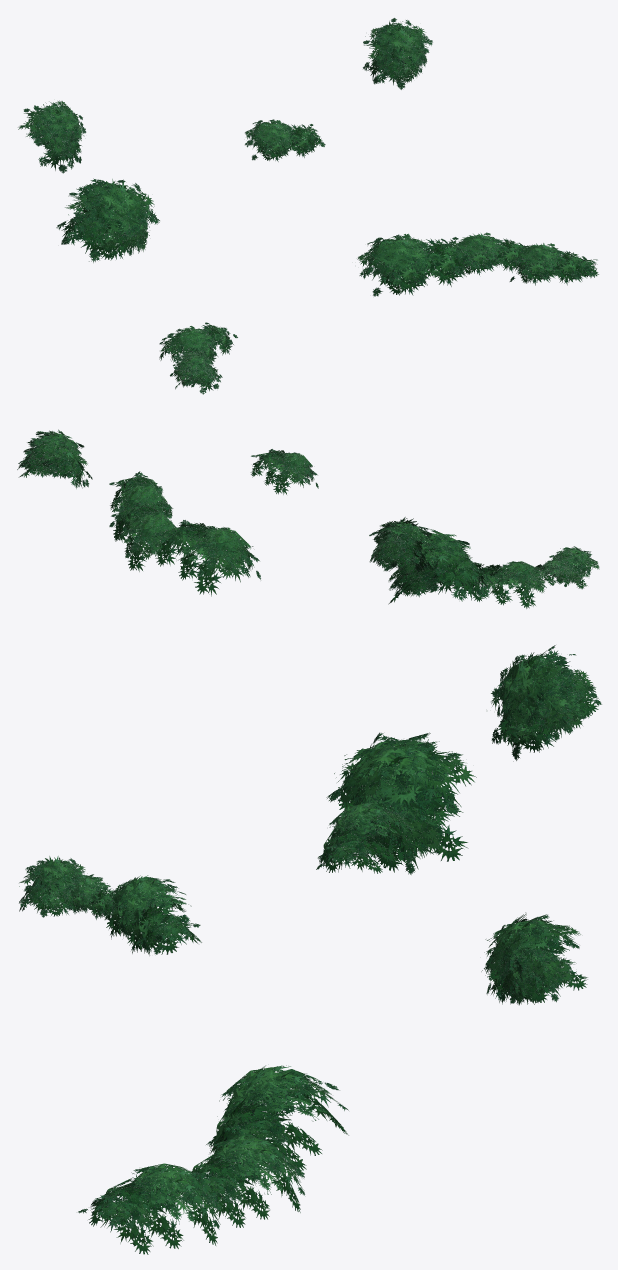
The model's file is Area_01_8.fbx.
The picture shows the model from 3 angles, top to bottom: view 1: azimuth 30°, elevation 25°; view 2: azimuth 150°, elevation 25°; view 3: azimuth 270°, elevation 25°; orthographic projection. The views are drawn at different scales.
Parts seen in each view (by area): view 1: Area_01_8; view 2: Area_01_8; view 3: Area_01_8.
Boxes of the visible parts, bbox=[...] form: Area_01_8: bbox=[18, 18, 598, 394]; Area_01_8: bbox=[17, 429, 599, 608]; Area_01_8: bbox=[19, 645, 601, 1254].
Size of the model in its own units: 4638 by 1896 by 3262.
